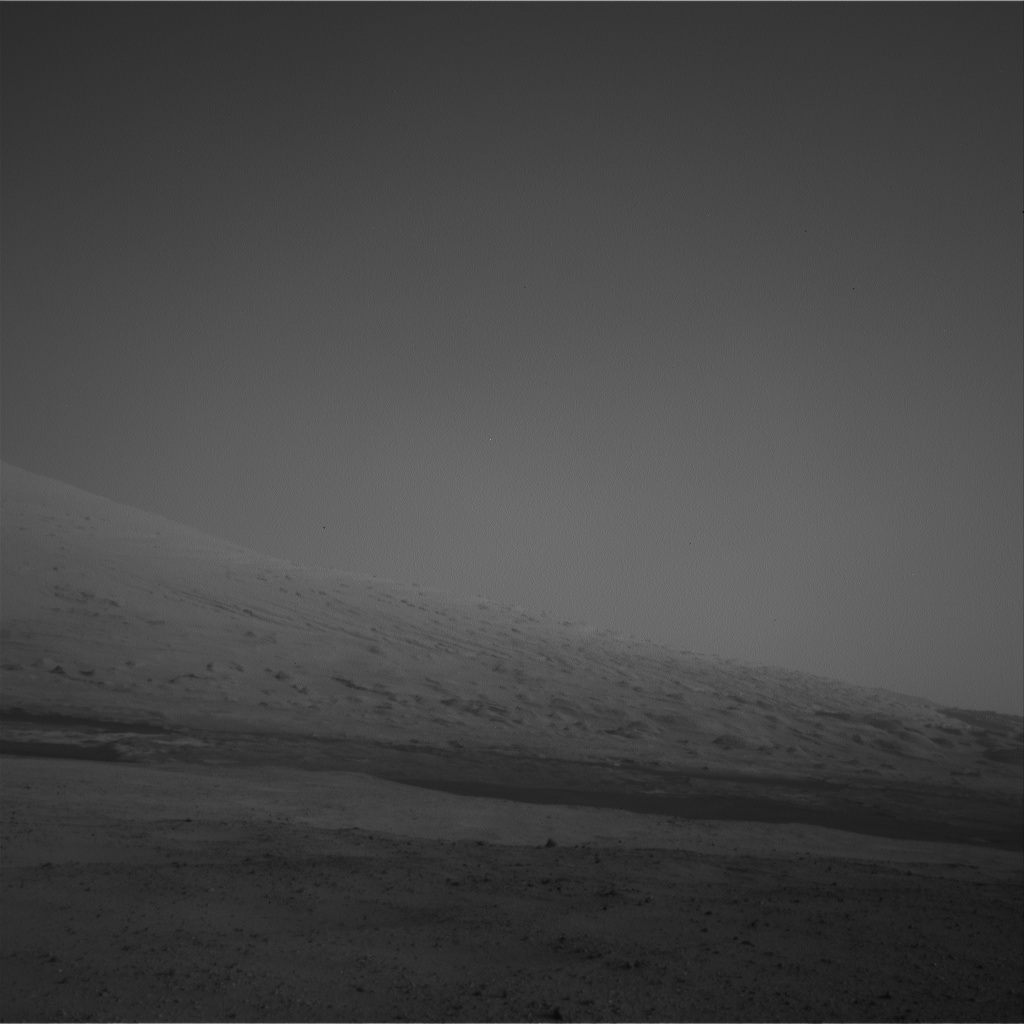soil: (6, 879, 1013, 1015)
